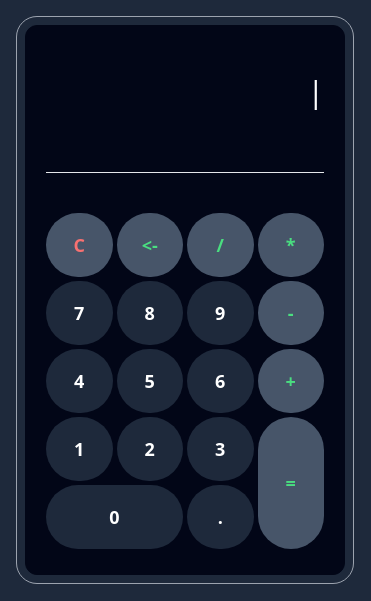
it: App › should render what the user clicks in the input
The image size is (371, 601).
Click the button "1". click: click(79, 448)
box: [46,416,112,480]
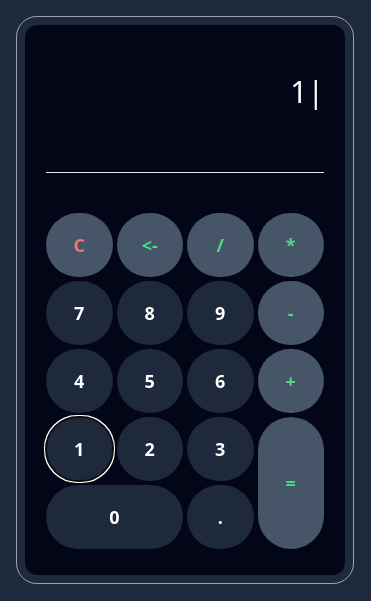
Click the button "+". click: click(291, 380)
box: [258,348,324,412]
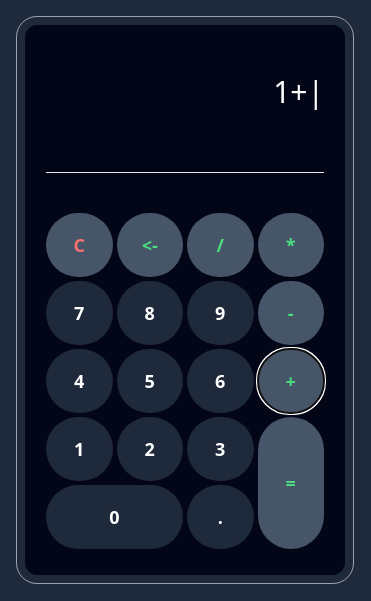
Click the button "1". click: click(79, 448)
box: [46,416,112,480]
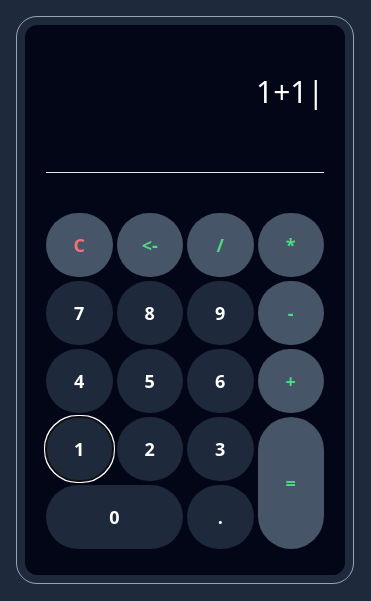
Expected: the field holds "1+1", [46,74,308,110]
